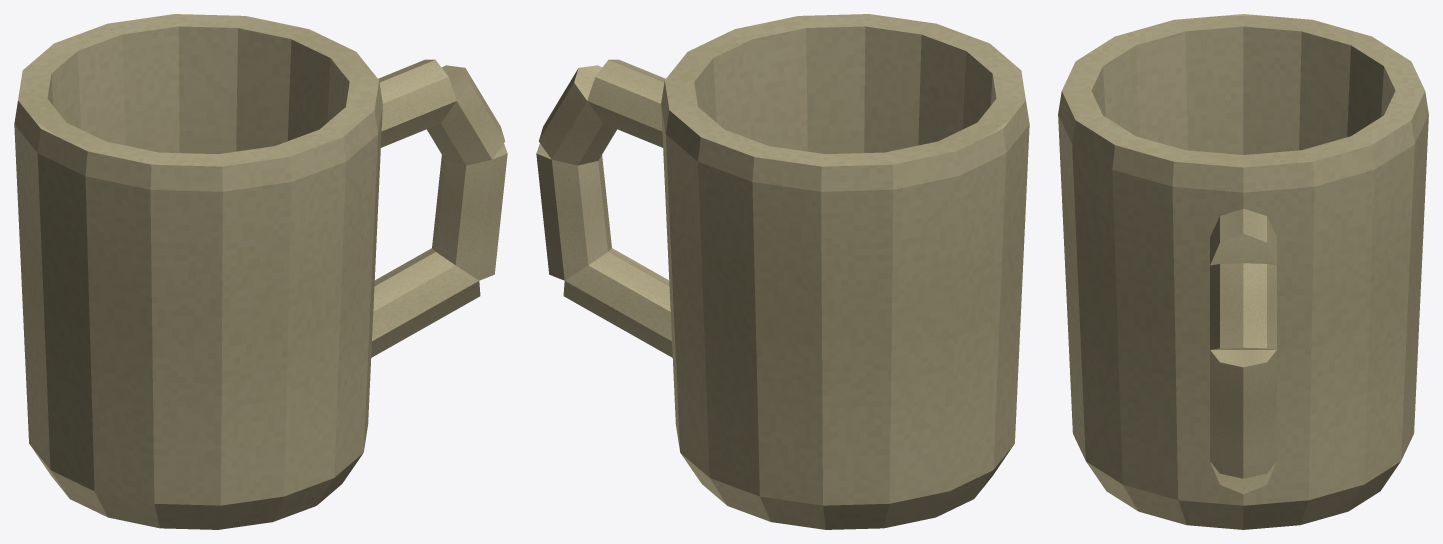
Rendered from level_loose_mug.glb.
3 views of the same model, side by side, from view 1: azimuth 30°, elevation 25°; view 2: azimuth 150°, elevation 25°; view 3: azimuth 270°, elevation 25° (orthographic).
Parts seen in each view (by area): view 1: level_loose_mug; view 2: level_loose_mug; view 3: level_loose_mug.
Boxes of the visible parts, bbox=[...] form: level_loose_mug: bbox=[14, 14, 507, 529]; level_loose_mug: bbox=[536, 14, 1029, 529]; level_loose_mug: bbox=[1058, 14, 1428, 529].
Bounding box in the file's own units: 0.1449 × 0.112 × 0.1.
Materials: 1 (1 with a texture image).
